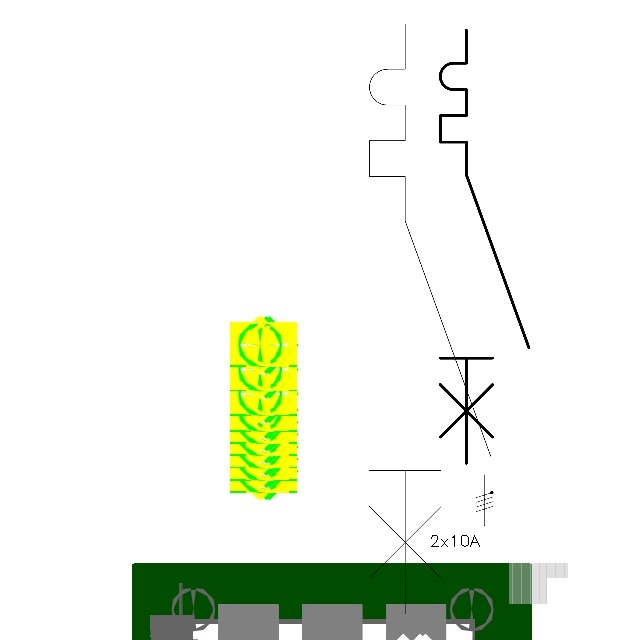interruptor_termomagnetico: (354, 9, 506, 629), (429, 19, 540, 474)
